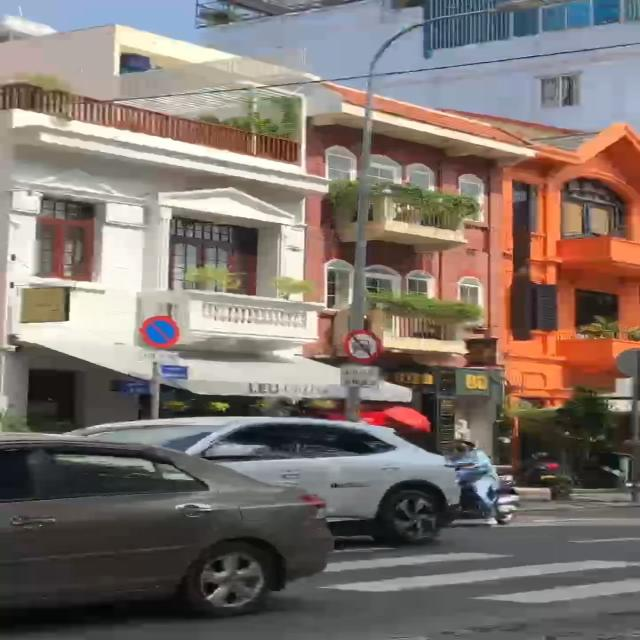Bien bao cam do xe: (137, 310, 191, 349)
Bien bao cam xe oto: (339, 324, 390, 362)
